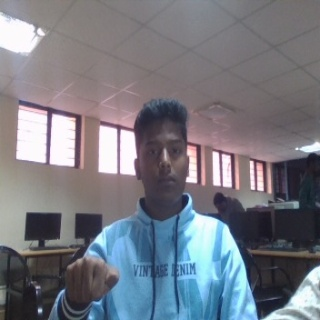Face: (132, 101, 193, 211)
Yes: (61, 255, 121, 314)
